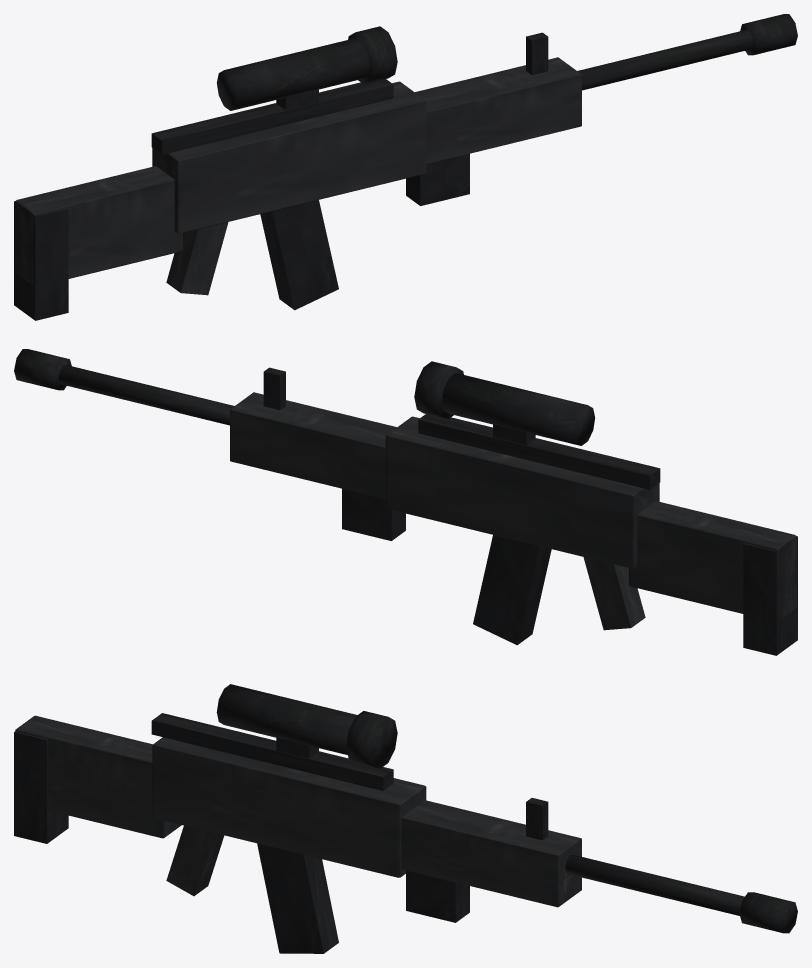
File: gun_vg_br.glb
3 renders of one model, top to bottom at view 1: azimuth 30°, elevation 25°; view 2: azimuth 150°, elevation 25°; view 3: azimuth 330°, elevation 25°, orthographic.
Parts seen in each view (by area): view 1: gun_vg_br; view 2: gun_vg_br; view 3: gun_vg_br.
Boxes of the visible parts, x1,y1,x2,y2 form: gun_vg_br: (14, 14, 797, 320); gun_vg_br: (14, 349, 797, 655); gun_vg_br: (14, 684, 797, 953).
Bounding box in the file's own units: 0.925 × 0.2911 × 0.056.
Materials: 2 (2 with a texture image).
